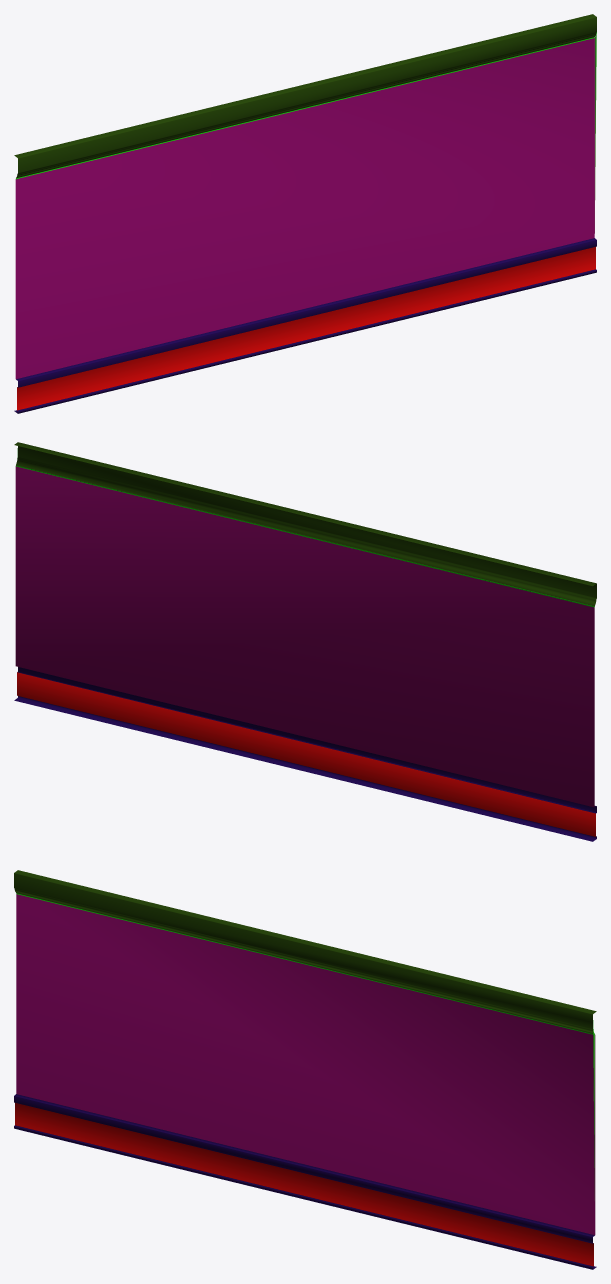
File: InnerWallLongV1.fbx
3 views of the same model, one above another, from view 1: azimuth 30°, elevation 25°; view 2: azimuth 150°, elevation 25°; view 3: azimuth 330°, elevation 25° (orthographic).
Parts seen in each view (by area): view 1: Inner Wall Long; view 2: Inner Wall Long; view 3: Inner Wall Long.
Part boxes in pixels (<box>): Inner Wall Long: <box>14,14,596,413</box>; Inner Wall Long: <box>14,442,596,841</box>; Inner Wall Long: <box>14,870,596,1269</box>.
Bounding box in the file's own units: 207 × 87.28 × 2.5.
